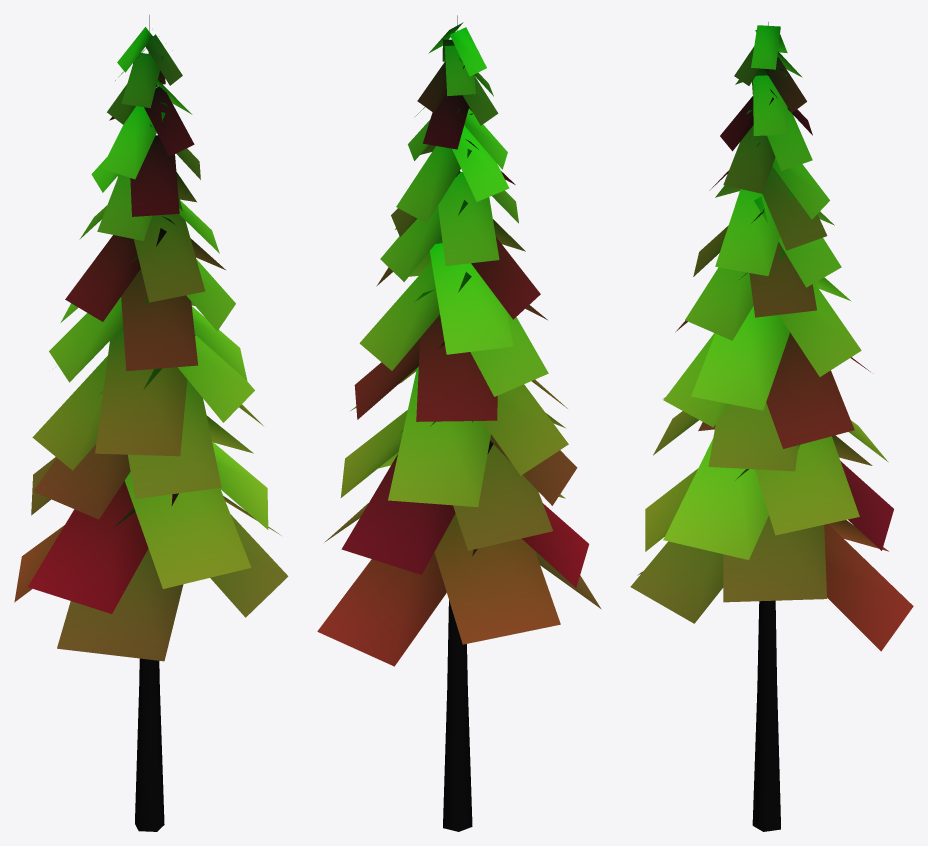
Rendered from SuperPine_1_3.fbx.
The picture shows the model from 3 angles, left to right: view 1: azimuth 30°, elevation 25°; view 2: azimuth 150°, elevation 25°; view 3: azimuth 270°, elevation 25°; orthographic projection.
Parts seen in each view (by area): view 1: SuperPine_1_3; view 2: SuperPine_1_3; view 3: SuperPine_1_3.
Part boxes in pixels (x1=…): SuperPine_1_3: x1=14, y1=15, x2=288, y2=831; SuperPine_1_3: x1=317, y1=15, x2=601, y2=831; SuperPine_1_3: x1=630, y1=22, x2=913, y2=831.
Bounding box in the file's own units: 375 × 1250 × 396.
